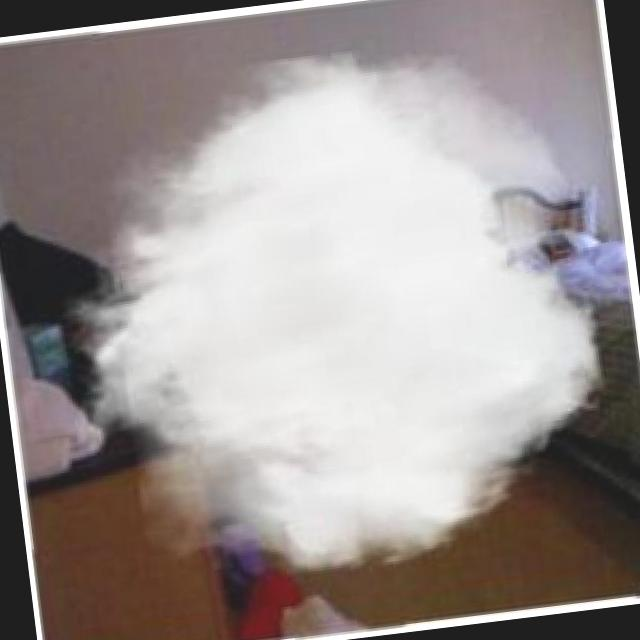smoke: (130, 88, 574, 572)
